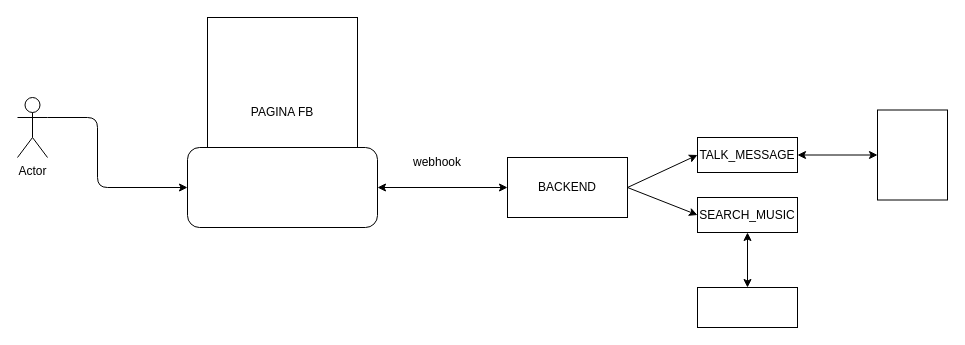
This 965x345 diagram has some shape labels left out. The box of each missing label's shape, as (x1, y1, x2, y2) in pixels:
API SPOTIFY: (696, 286, 798, 328)
LISTA DE MENSAJES: (876, 109, 948, 200)
MESSENGER: (186, 146, 378, 228)
